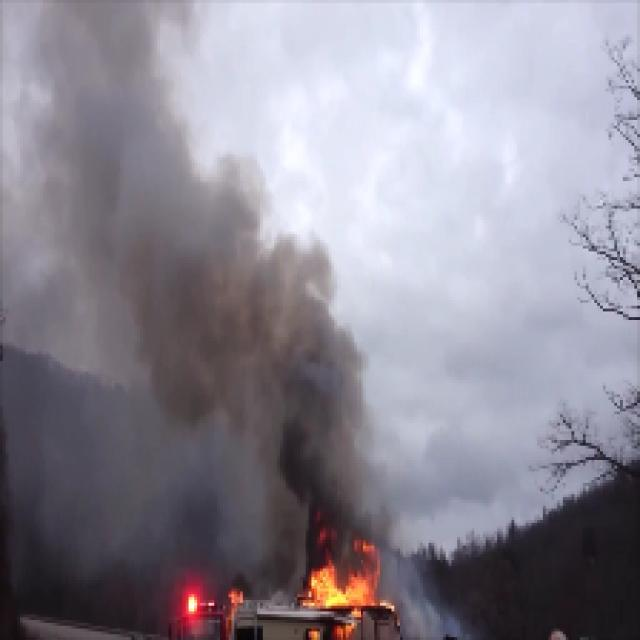fire: (304, 564, 380, 610)
smoke: (107, 98, 174, 354), (188, 228, 278, 414), (286, 372, 354, 536)
